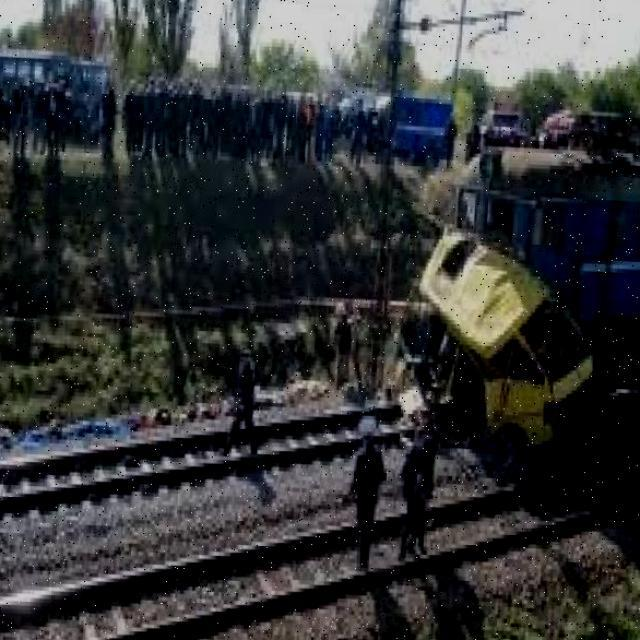accident: (395, 162, 640, 466)
